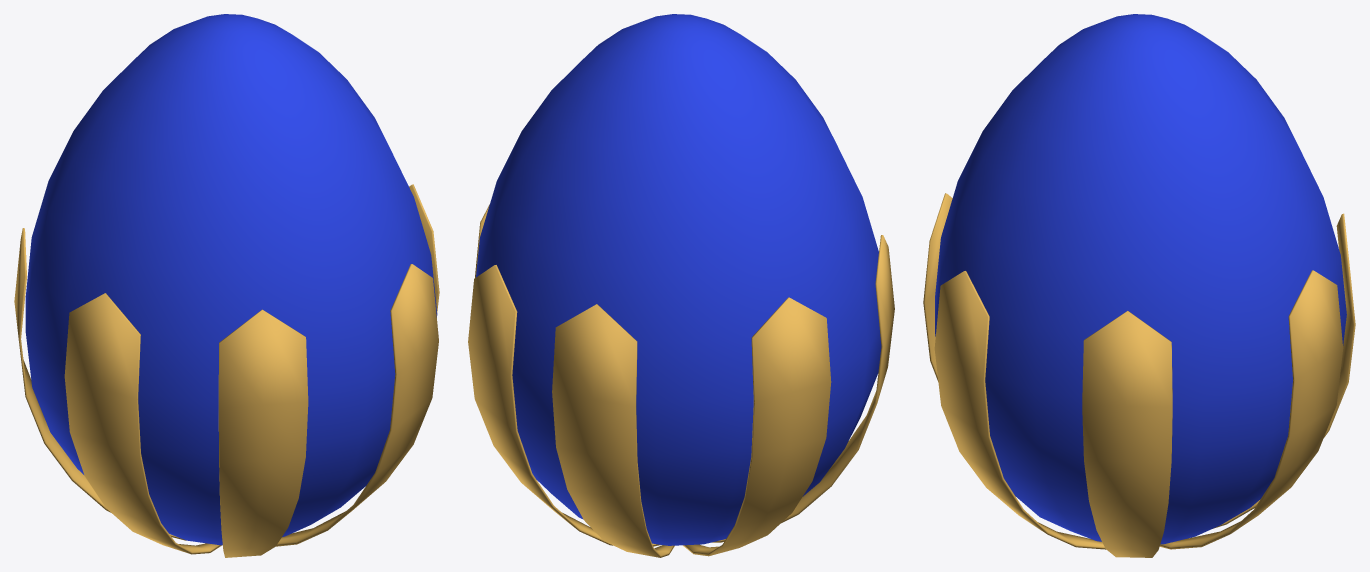
Rendered from Magic__Egg.fbx.
3 renders of one model, left to right at view 1: azimuth 30°, elevation 25°; view 2: azimuth 150°, elevation 25°; view 3: azimuth 270°, elevation 25°, orthographic.
Visible parts, largest first — view 1: Magic__Egg; view 2: Magic__Egg; view 3: Magic__Egg.
Boxes of the visible parts, x1=… form: Magic__Egg: x1=14, y1=14, x2=439, y2=557; Magic__Egg: x1=468, y1=14, x2=894, y2=557; Magic__Egg: x1=923, y1=14, x2=1355, y2=557.
Size of the model in its own units: 26.77 by 35.73 by 26.97.
